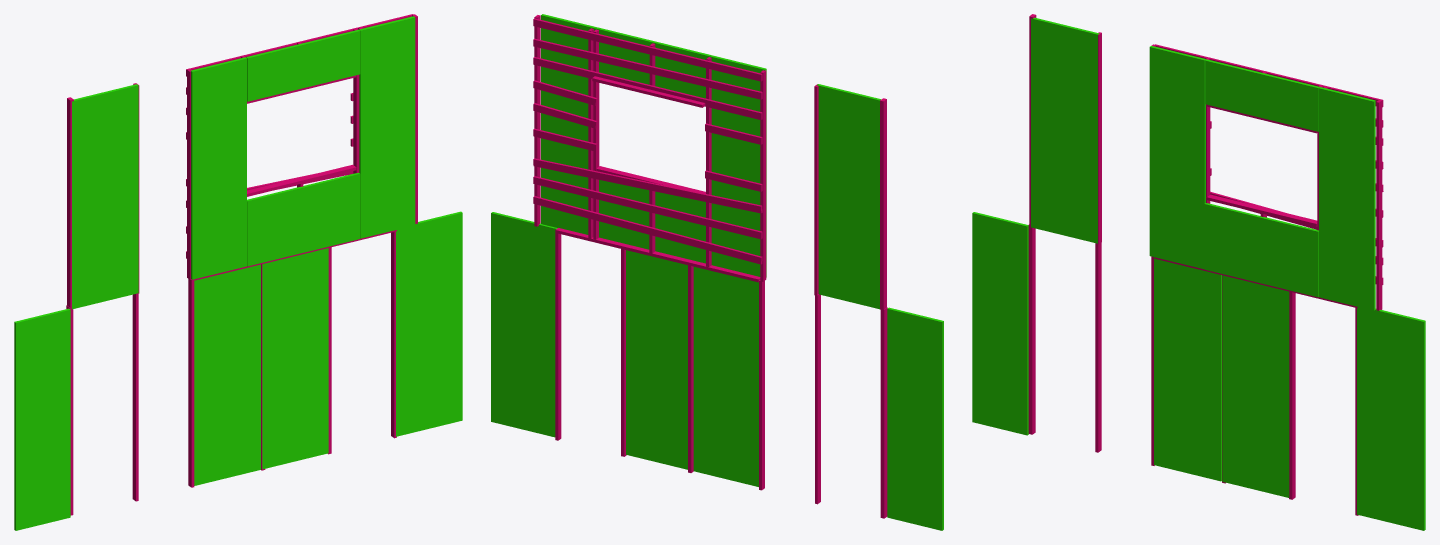
File: BH04_Wall_04_Break_B.fbx
The picture shows the model from 3 angles, left to right: view 1: azimuth 30°, elevation 25°; view 2: azimuth 150°, elevation 25°; view 3: azimuth 330°, elevation 25°; orthographic projection.
Visible parts, largest first — view 1: BH04_Wall_04_Break_B; view 2: BH04_Wall_04_Break_B; view 3: BH04_Wall_04_Break_B.
Boxes of the visible parts, <box> form: BH04_Wall_04_Break_B: <box>14,14,462,530</box>; BH04_Wall_04_Break_B: <box>491,14,943,530</box>; BH04_Wall_04_Break_B: <box>972,14,1425,530</box>.
Size of the model in its own units: 676 by 602 by 23.01.
